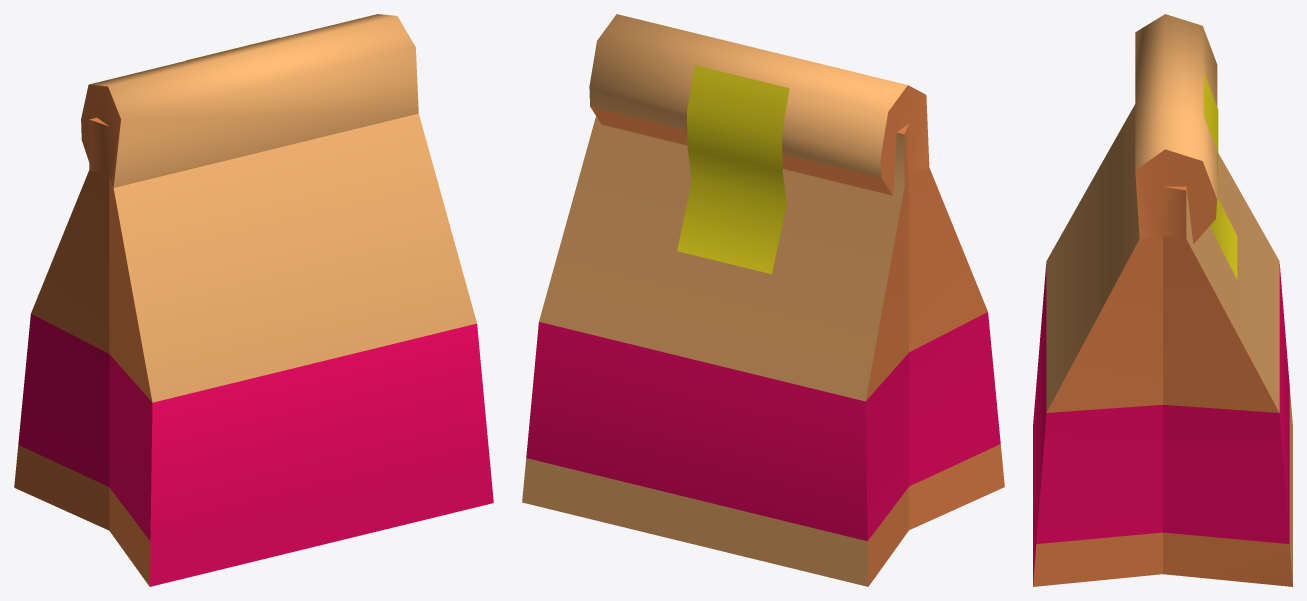
File: Takeout_Bag_geo.fbx
3 views of the same model, side by side, from view 1: azimuth 30°, elevation 25°; view 2: azimuth 150°, elevation 25°; view 3: azimuth 270°, elevation 25° (orthographic). The views are drawn at different scales.
Parts seen in each view (by area): view 1: Takeout_Bag_geo; view 2: Takeout_Bag_geo; view 3: Takeout_Bag_geo.
Part boxes in pixels (x1,y1,x2,y2): Takeout_Bag_geo: [14, 14, 493, 586]; Takeout_Bag_geo: [522, 14, 1004, 586]; Takeout_Bag_geo: [1033, 14, 1292, 586].
Size of the model in its own units: 0.6007 by 0.4101 by 0.7395.
